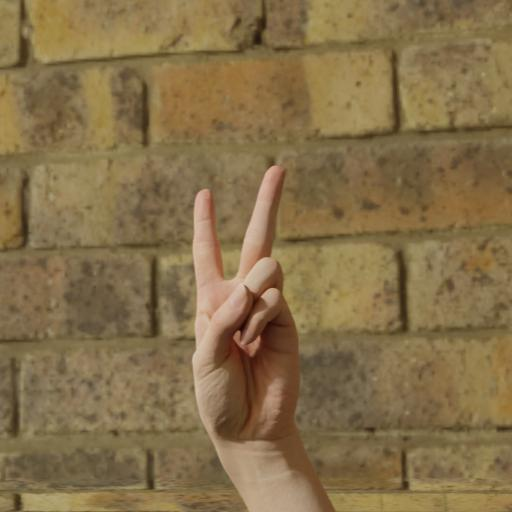V: (166, 151, 326, 512)
